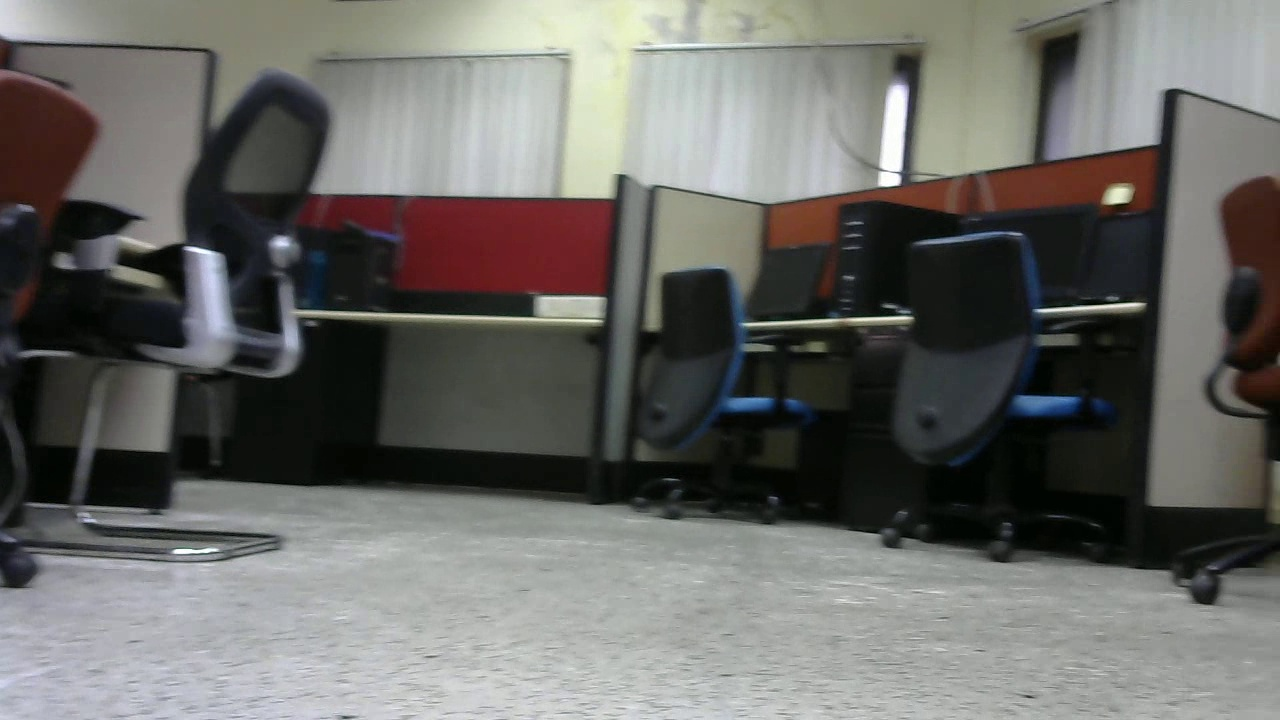chair: (23, 48, 338, 563), (849, 219, 1129, 568), (600, 253, 836, 530)
